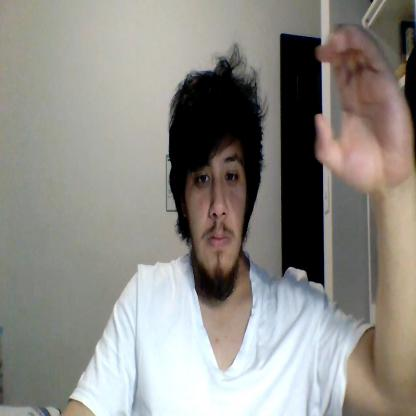C: (315, 21, 413, 190)
